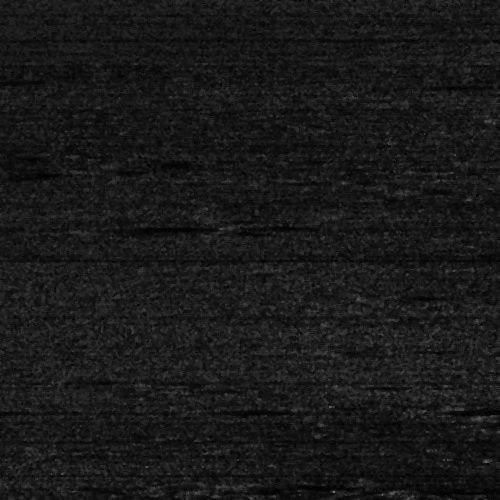object: (410, 403, 500, 414), (57, 223, 120, 230)
shadow: (89, 223, 180, 230), (456, 403, 500, 414)
